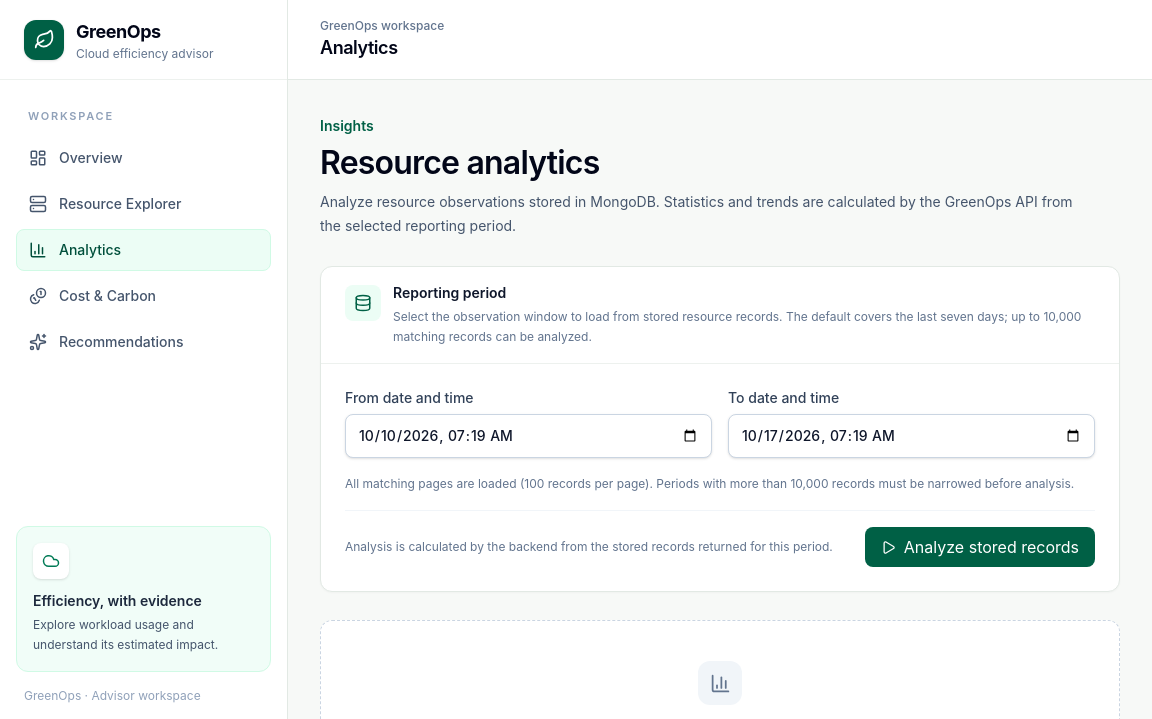
GreenOps routes and page behavior › loads stored records for the selected period and displays backend analytics
Expected: the heading "Analytics" is shown, [320, 36, 398, 58]
Replace the text in the field labelled "From date and time" with "2026-10-10T08:30" at [528, 436], box [345, 414, 712, 458]
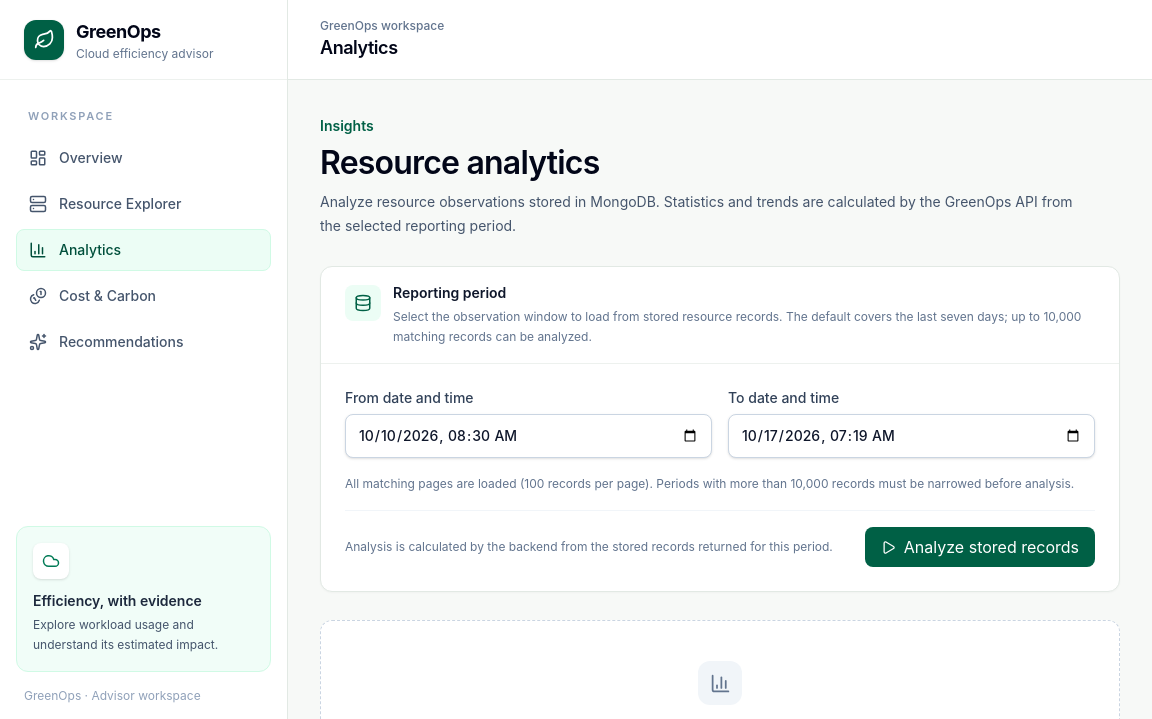
Replace the text in the field labelled "To date and time" with "2026-10-15T18:45" at [912, 436], box [728, 414, 1095, 458]
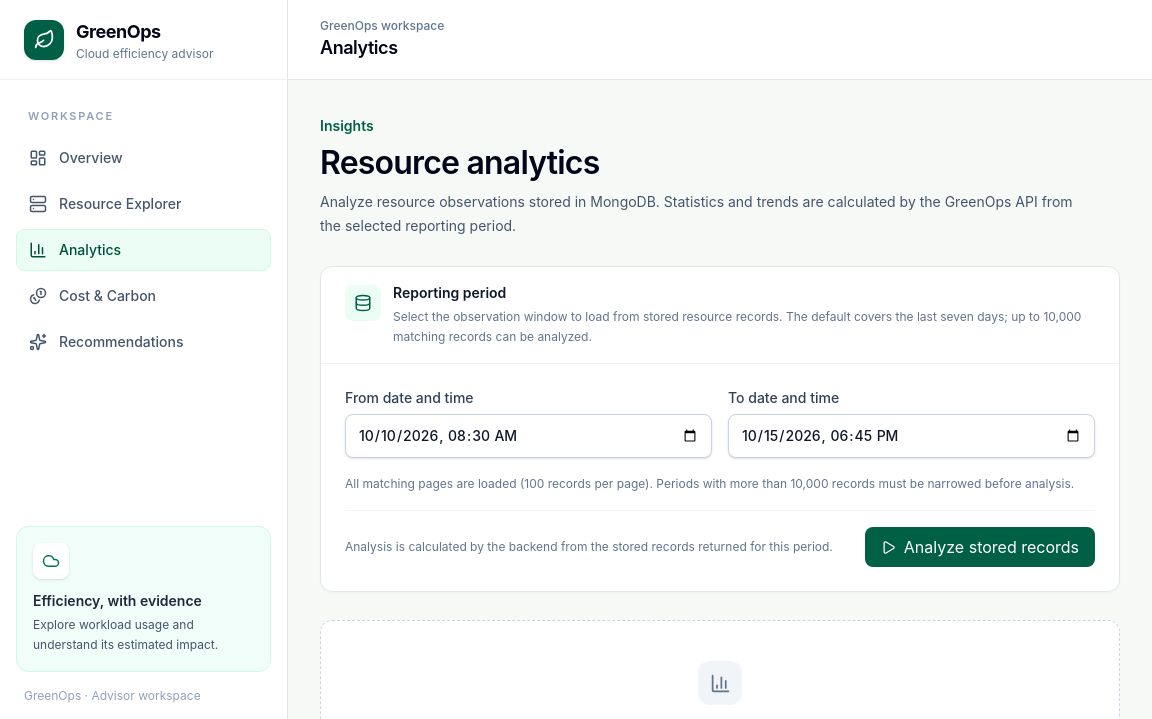
Click the button "Analyze stored records" at [980, 547], box [865, 527, 1095, 567]
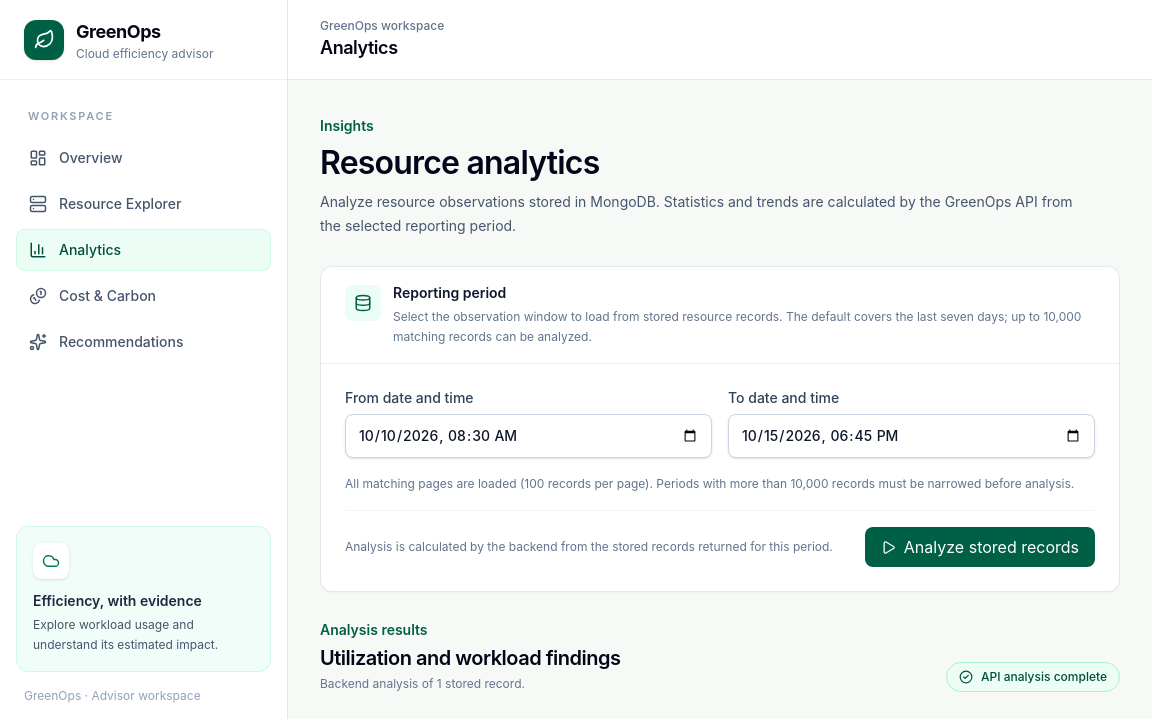
Expected: the heading "Utilization and workload findings" is shown, [320, 644, 620, 672]
Expected: the text "Backend analysis of 1 stored record." is shown, [320, 676, 525, 691]
